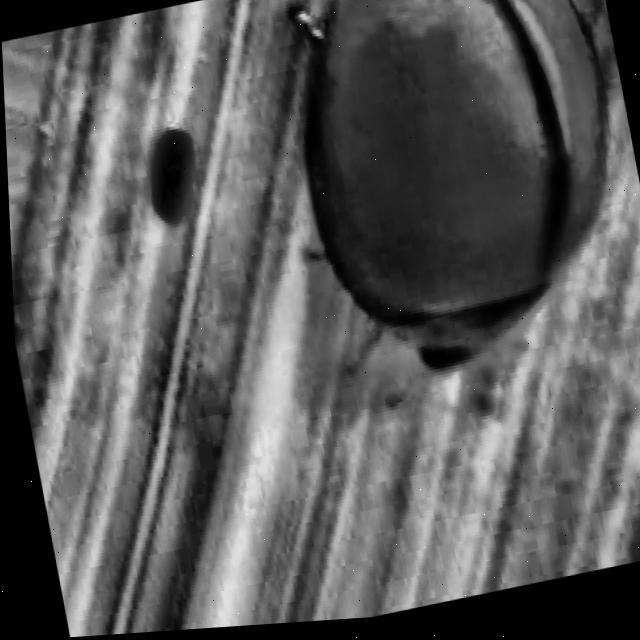Ladybug: (209, 0, 640, 481)
